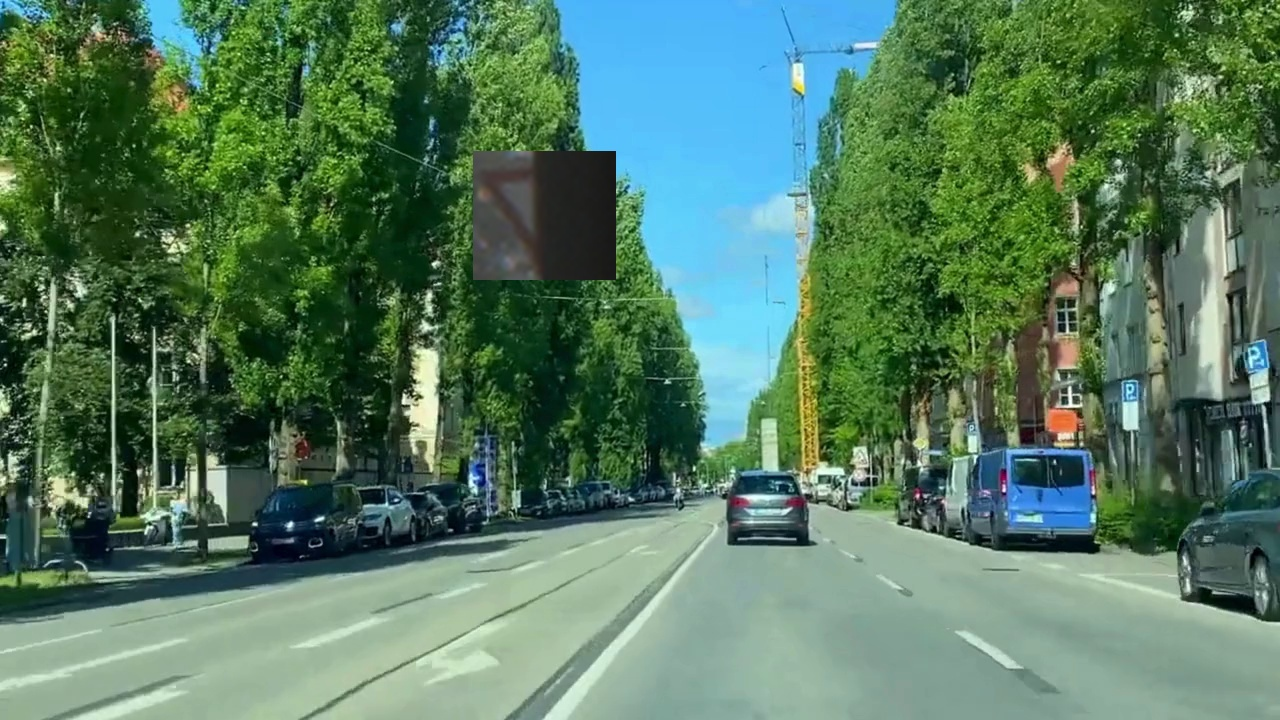Yield: (473, 151, 616, 280)
